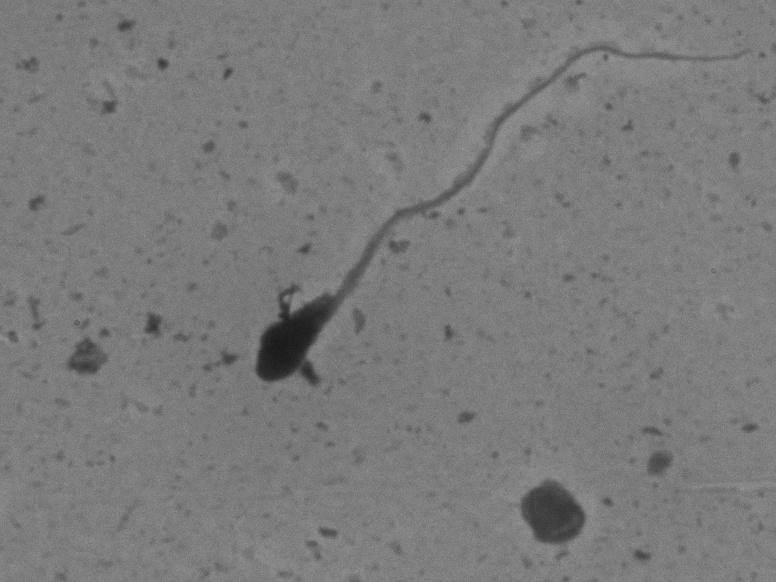Abnormal: (195, 27, 758, 438)
